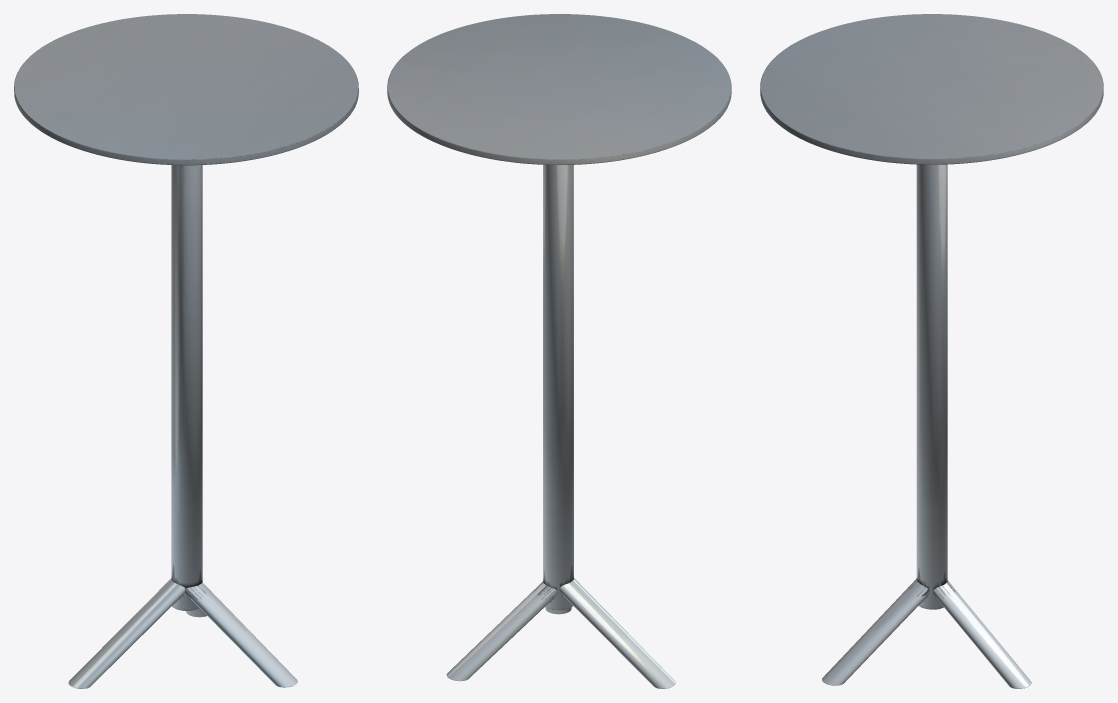
The model's file is luna_110_70_frosted_glass_chrome_plated.glb.
The picture shows the model from 3 angles, left to right: view 1: azimuth 30°, elevation 25°; view 2: azimuth 150°, elevation 25°; view 3: azimuth 270°, elevation 25°; orthographic projection.
Parts seen in each view (by area): view 1: Glass, luna_110_o60-frosted_glass; view 2: Glass, luna_110_o60-frosted_glass; view 3: Glass, luna_110_o60-frosted_glass.
Boxes of the visible parts, left/top/right/bottom form: Glass: left=14, top=14, right=358, bottom=165; luna_110_o60-frosted_glass: left=68, top=165, right=297, bottom=688; Glass: left=387, top=14, right=731, bottom=165; luna_110_o60-frosted_glass: left=446, top=164, right=675, bottom=688; Glass: left=760, top=14, right=1103, bottom=164; luna_110_o60-frosted_glass: left=822, top=164, right=1031, bottom=688.
Bounding box in the file's own units: 0.6043 × 1.11 × 0.6043.
Materials: 2 (2 with a texture image).
